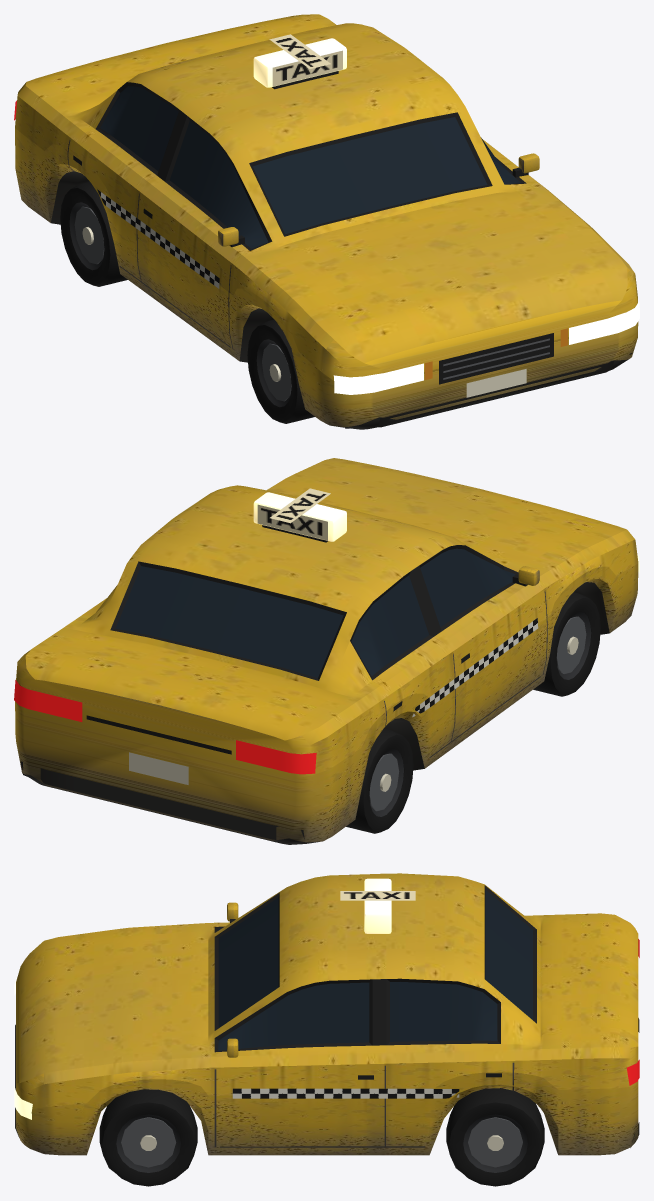
The model's file is taxi.glb.
The picture shows the model from 3 angles, top to bottom: view 1: azimuth 30°, elevation 25°; view 2: azimuth 150°, elevation 25°; view 3: azimuth 270°, elevation 25°; orthographic projection. The views are drawn at different scales.
Visible parts, largest first — view 1: body, wheel-back-right, wheel-front-right, wheel-front-right.1, wheel-back-right.1; view 2: body, wheel-back-right, wheel-front-right, wheel-front-right.1, wheel-back-right.1; view 3: body, wheel-back-left, wheel-front-left, wheel-front-left.1, wheel-back-left.1.
Boxes of the visible parts, x1,y1,x2,y2 form: body: (14,14,639,429); wheel-back-right: (60,182,127,286); wheel-front-right: (247,319,314,423); wheel-front-right.1: (257,339,291,407); wheel-back-right.1: (69,202,104,270); body: (14,458,639,844); wheel-back-right: (346,728,413,833); wheel-front-right: (533,592,600,696); wheel-front-right.1: (556,612,591,679); wheel-back-right.1: (369,749,403,816); body: (14,873,639,1155); wheel-back-left: (446,1088,544,1186); wheel-front-left: (99,1089,197,1186); wheel-front-left.1: (116,1114,180,1172); wheel-back-left.1: (463,1114,527,1172).
Bounding box in the file's own units: 1.5 × 1.08 × 2.74.
Materials: 15 (3 with a texture image).
